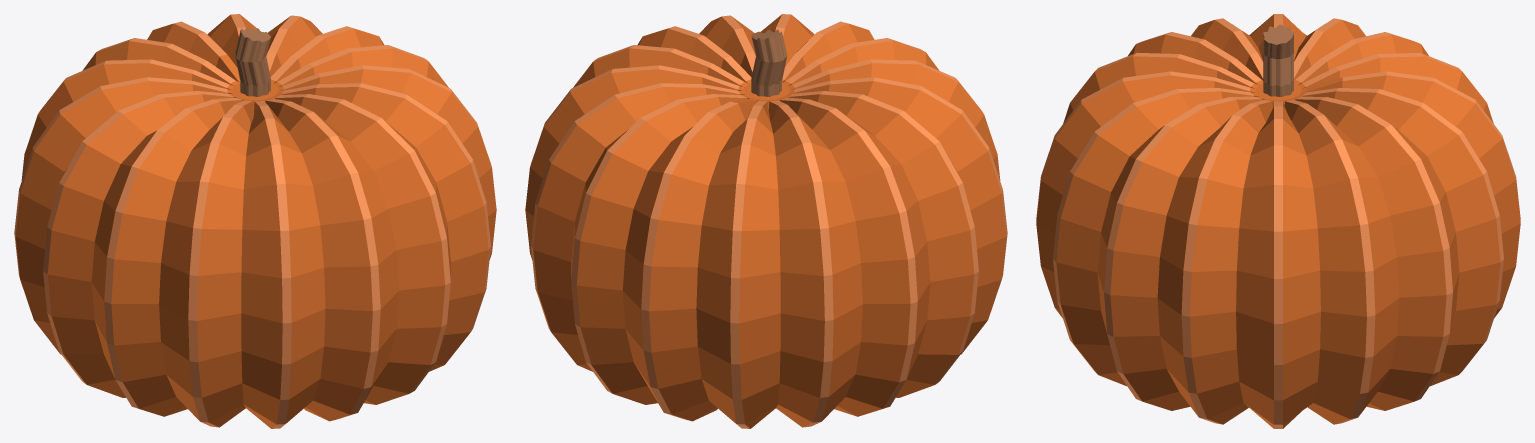
The model's file is pumpkin2.glb.
3 views of the same model, side by side, from view 1: azimuth 30°, elevation 25°; view 2: azimuth 150°, elevation 25°; view 3: azimuth 270°, elevation 25° (orthographic).
Parts seen in each view (by area): view 1: Sphere, Cylinder; view 2: Sphere, Cylinder; view 3: Sphere, Cylinder.
Boxes of the visible parts, x1,y1,x2,y2 form: Sphere: (14, 14, 496, 428); Cylinder: (235, 27, 270, 96); Sphere: (525, 14, 1007, 428); Cylinder: (751, 29, 787, 96); Sphere: (1036, 14, 1520, 428); Cylinder: (1263, 24, 1293, 96).
Bounding box in the file's own units: 0.3985 × 0.3074 × 0.3985.
